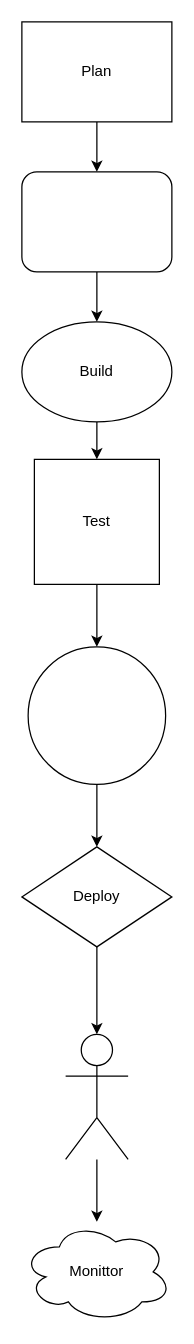
Some shapes in this 194 by 1344 pixel diagram are drawn without their labels. The centre of each missing label's shape, as x and y in pixels:
"Develope" belongs at [96,221].
"Operator" belongs at [96,1096].
"Release" belongs at [96,715].
